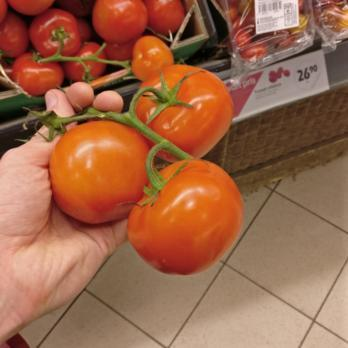Tomato-: (48, 59, 239, 275)
